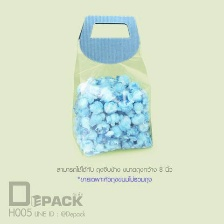snack: (61, 7, 160, 161)
